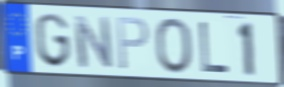1: (236, 20, 256, 78)
G: (33, 12, 72, 70)
L: (197, 20, 231, 75)
N: (71, 13, 115, 70)
O: (153, 16, 194, 75)
P: (115, 16, 151, 72)
